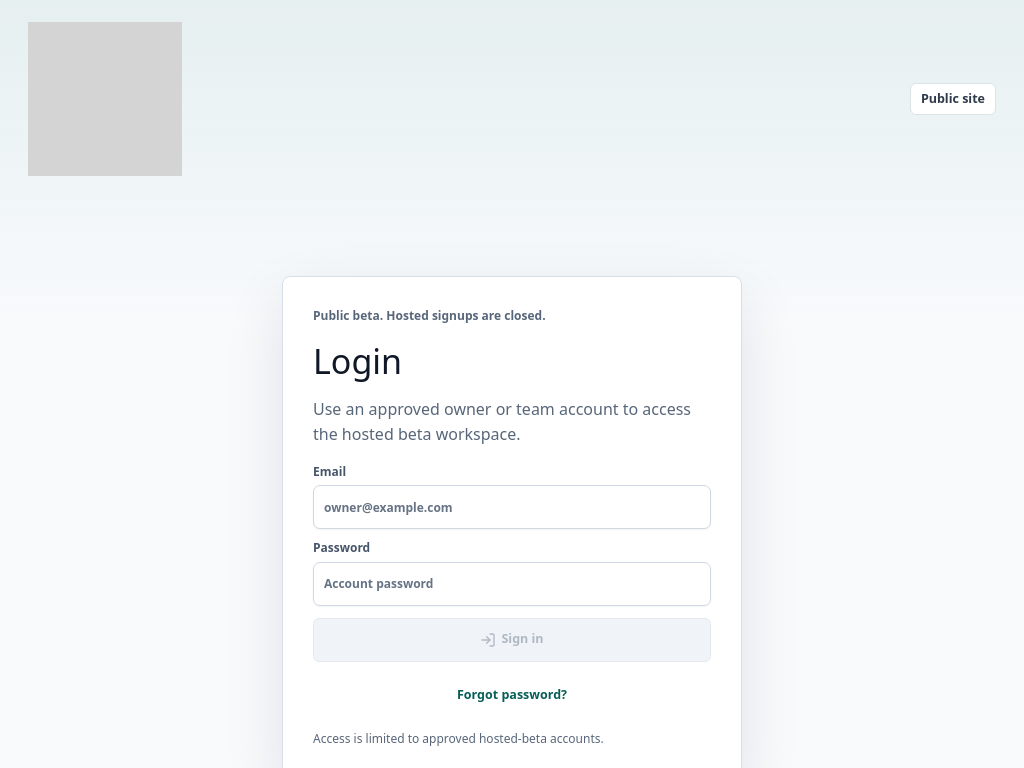
non-owner admin sessions cannot edit privileged target role controls
The width and height of the screenshot is (1024, 768).
In the field labelled "Email": (512, 507) [313,485,711,529], type "admin@example.com"
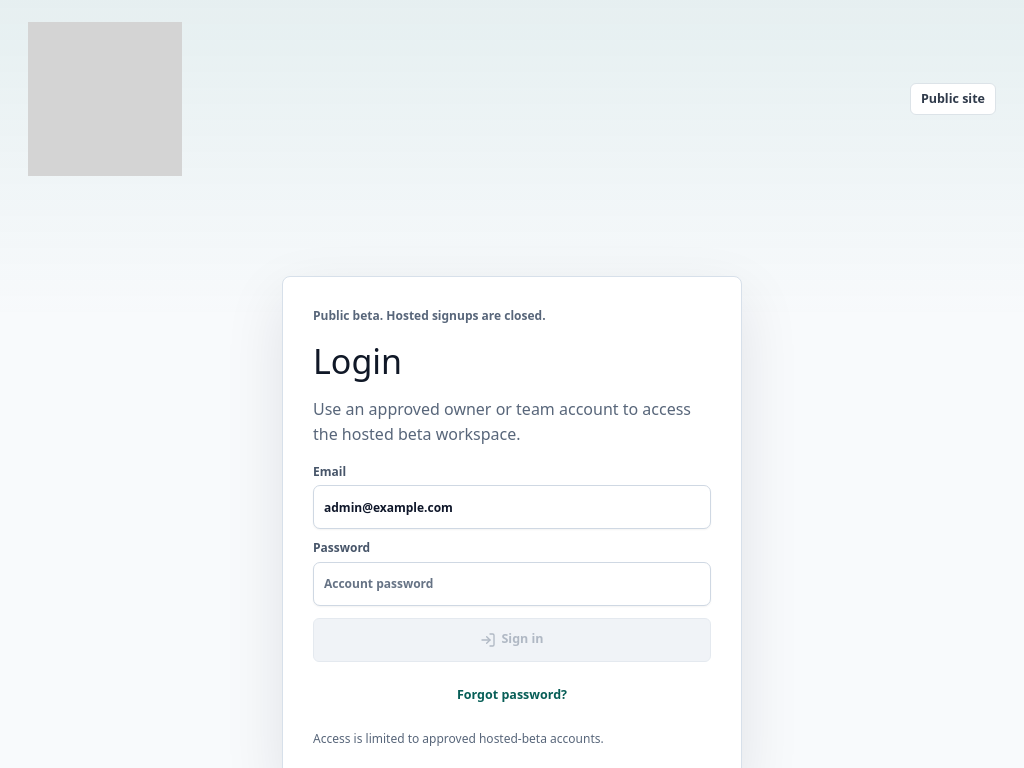
In the password field labelled "Password": (512, 584) [313,562,711,606], type "correct horse battery staple"
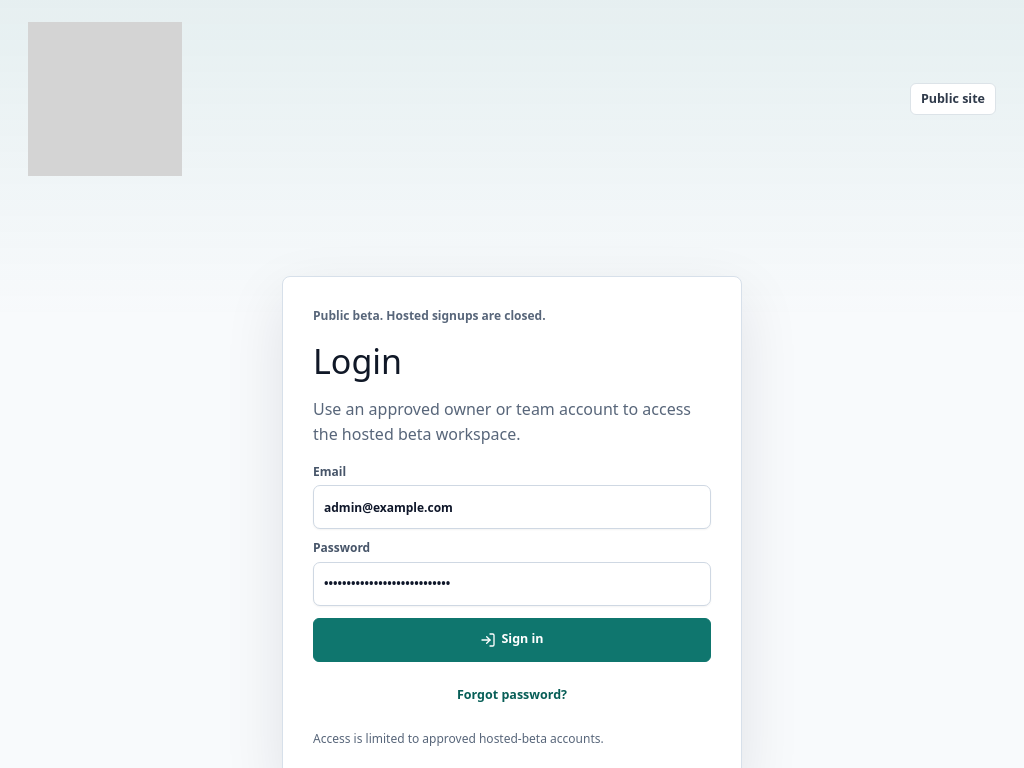
Click the button "Sign in": (512, 640) [313,618,711,662]
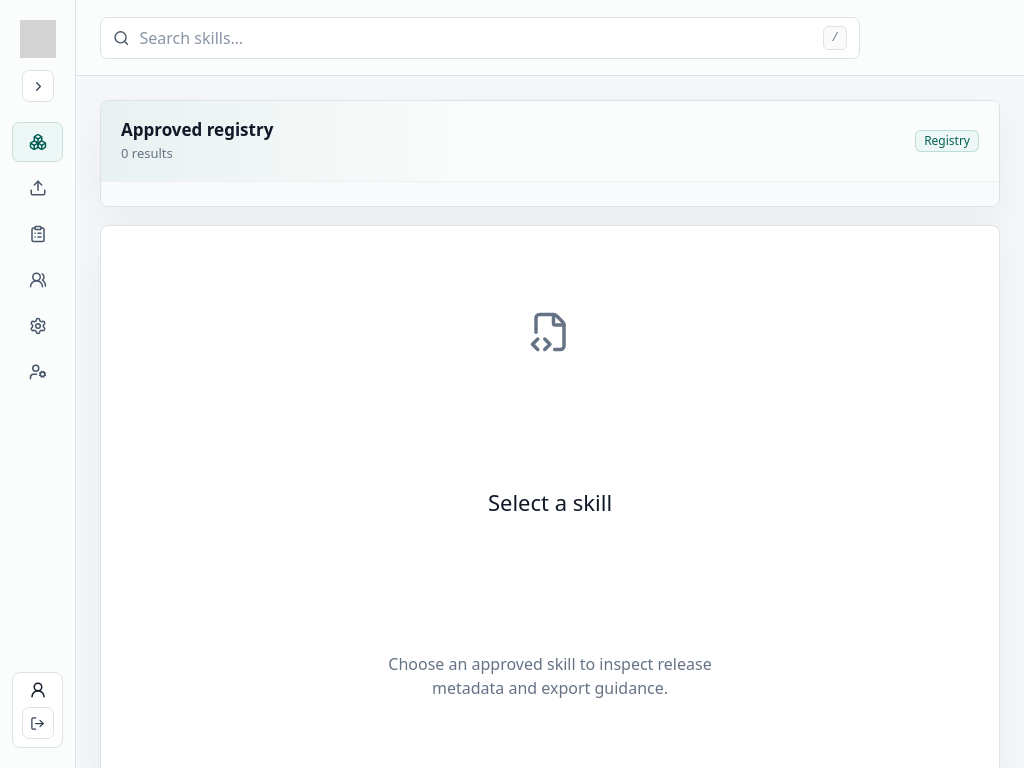
Click the link named "Admin": (38, 326) [28,317,46,335]
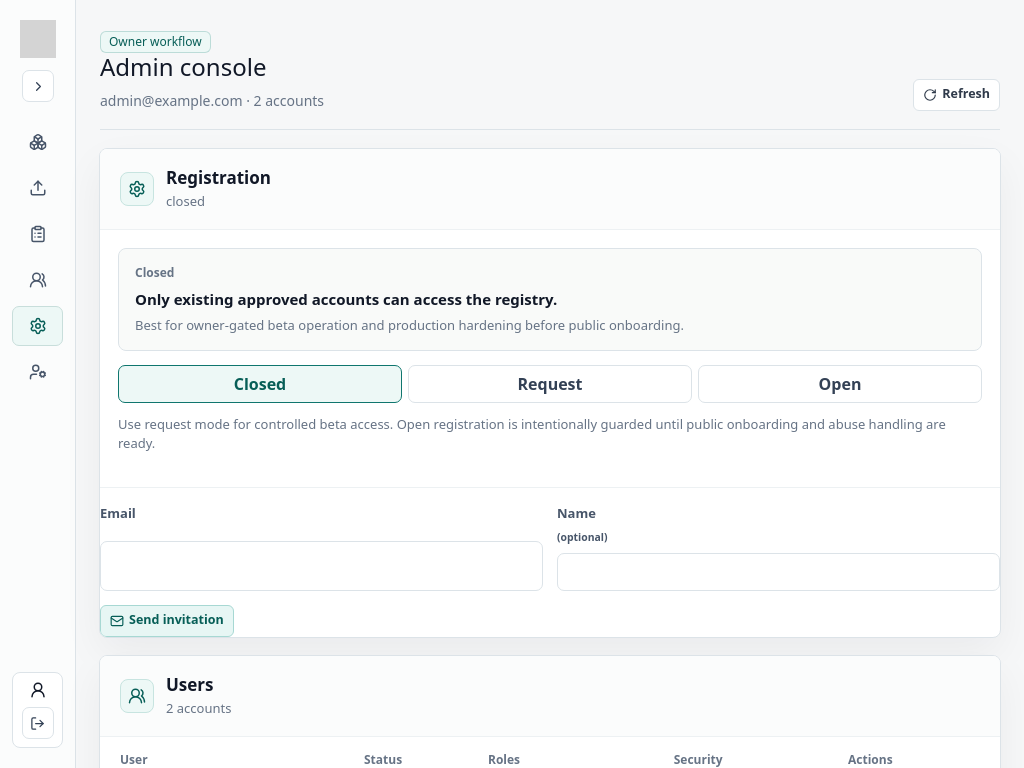
Expected: the button "Refresh" is shown, [913,79,1000,111]
